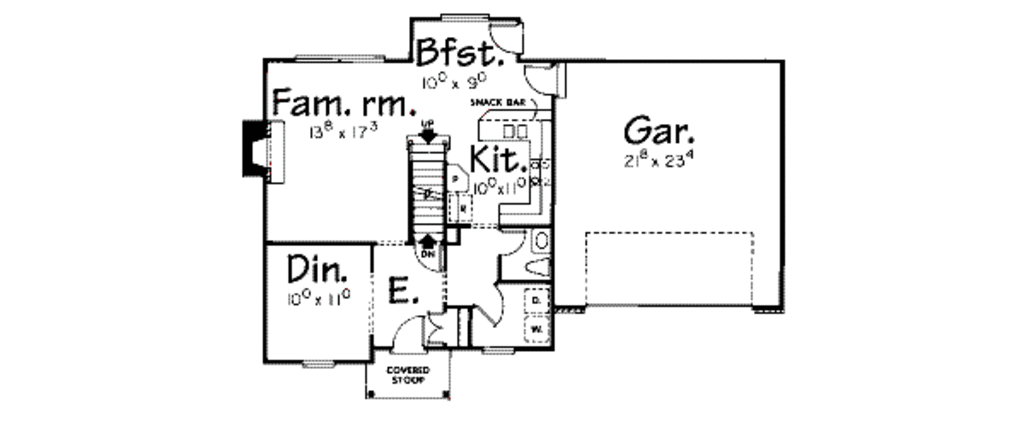door: (520, 60, 565, 106), (475, 281, 506, 331), (390, 311, 424, 353), (488, 16, 526, 53), (495, 222, 528, 256), (425, 307, 445, 350)
kitchen_bar: (473, 105, 553, 145)
large_sink: (522, 255, 559, 280)
small_sink: (529, 226, 558, 258)
stairs: (402, 118, 449, 244)
window: (291, 50, 387, 69), (434, 7, 492, 24), (298, 353, 334, 372), (479, 347, 516, 359)
